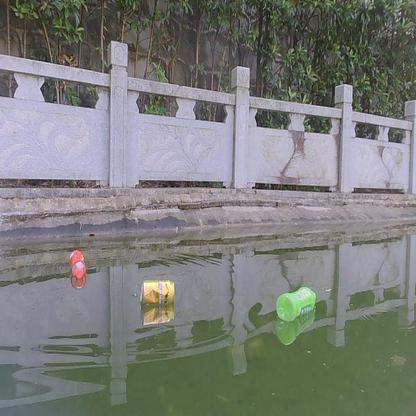can: (141, 280, 175, 306)
plastic bottle: (275, 285, 316, 320), (70, 250, 87, 280)
